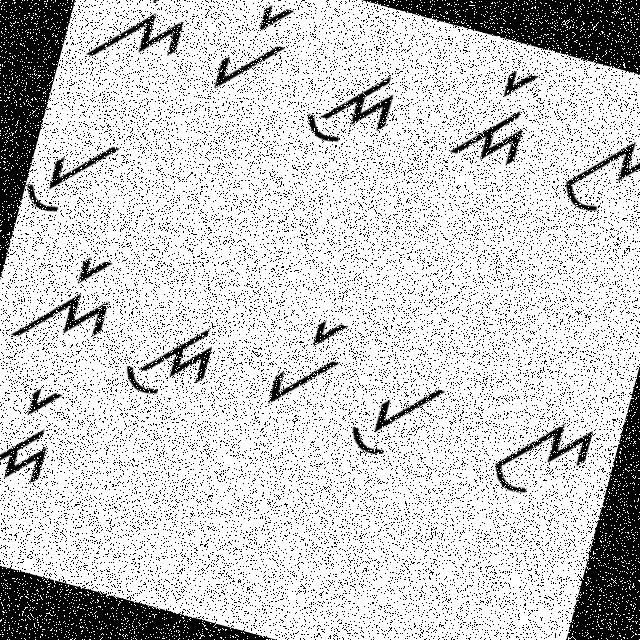dar: (446, 52, 554, 180), (0, 368, 71, 505)
daw: (112, 291, 228, 420), (290, 46, 408, 160)
nar: (8, 236, 124, 370), (80, 0, 207, 81)
naw: (479, 384, 607, 521), (551, 111, 639, 232)
par: (250, 290, 355, 424), (204, 0, 300, 106)
paw: (332, 342, 462, 485), (18, 116, 128, 232)
